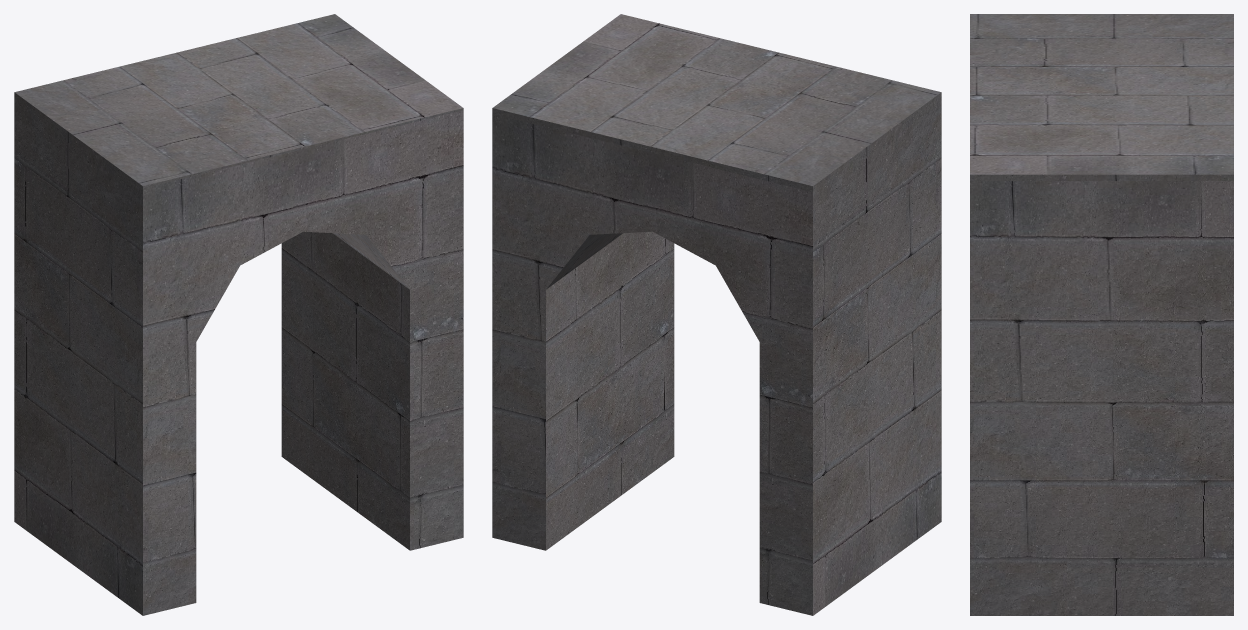
The model's file is Archway.glb.
3 renders of one model, left to right at view 1: azimuth 30°, elevation 25°; view 2: azimuth 150°, elevation 25°; view 3: azimuth 270°, elevation 25°, orthographic. The views are drawn at different scales.
Parts seen in each view (by area): view 1: Archway; view 2: Archway; view 3: Archway.
Boxes of the visible parts, x1,y1,x2,y2 form: Archway: (14, 14, 463, 615); Archway: (492, 14, 941, 615); Archway: (970, 14, 1233, 615).
Size of the model in its own units: 2 by 2.56 by 1.39.
1 material, 1 textured.
